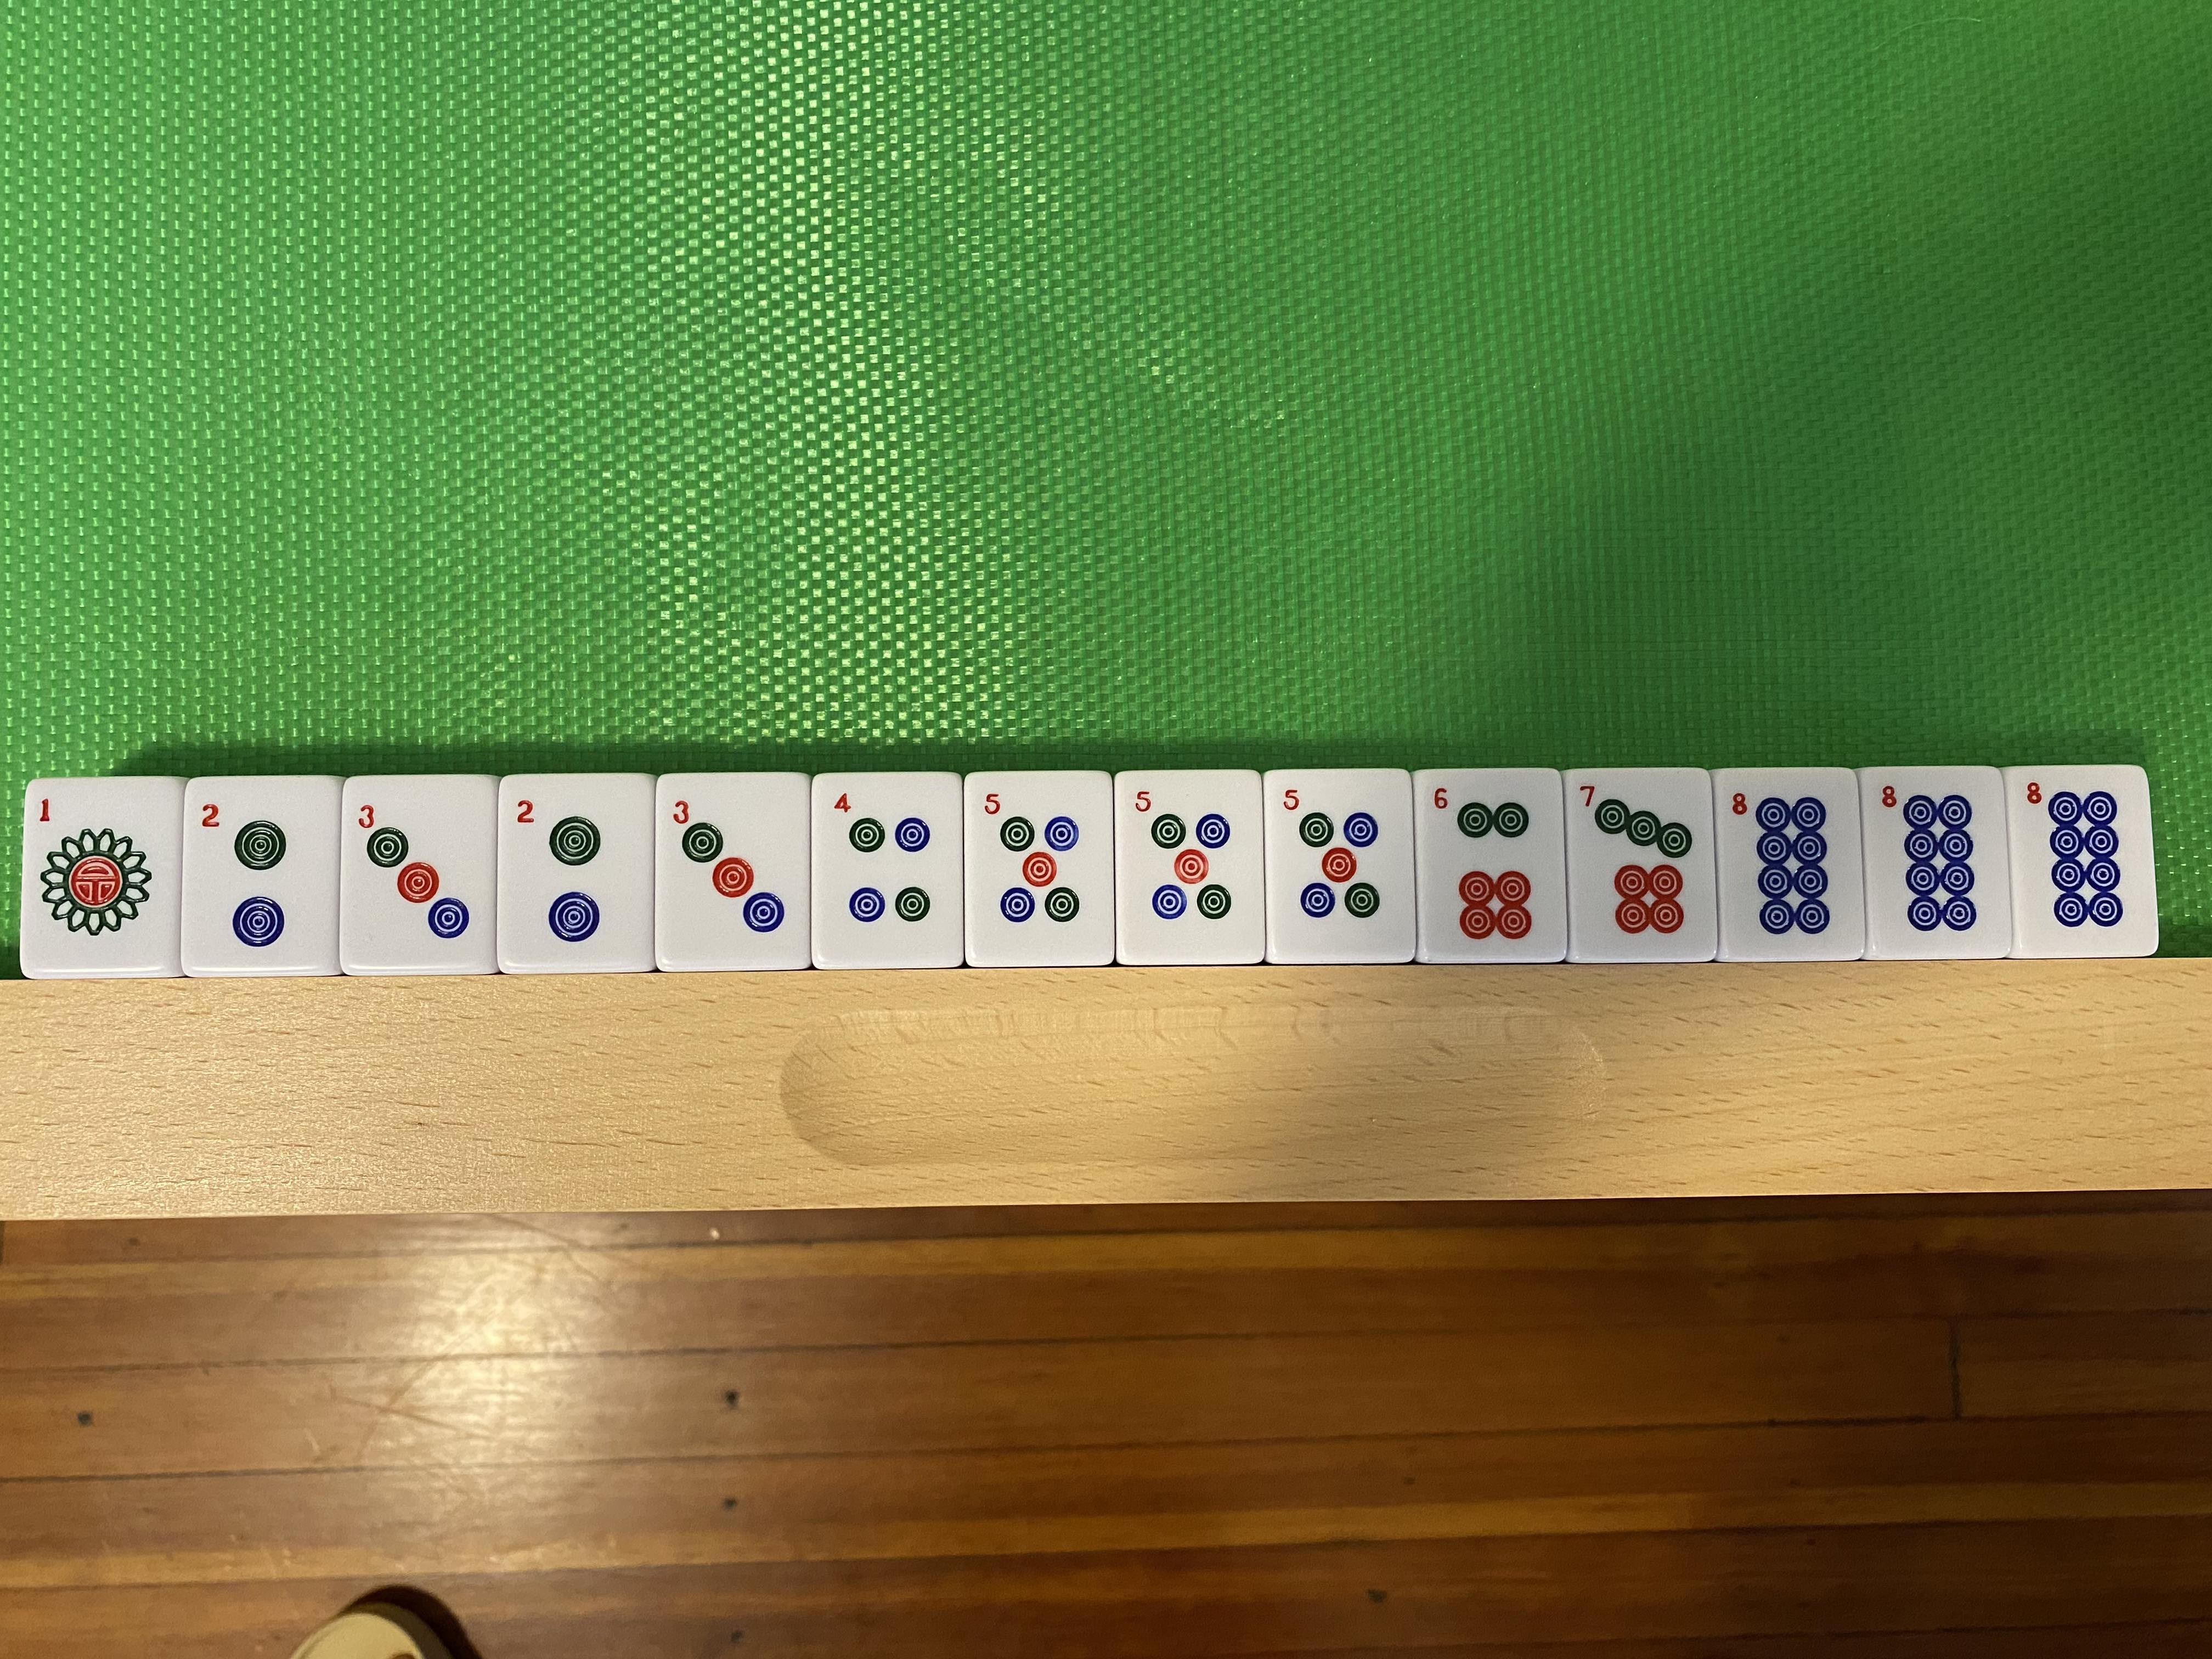circle-eight: (1723, 779, 1844, 951), (1871, 772, 1993, 939), (2024, 772, 2134, 941)
circle-five: (1122, 781, 1259, 955), (1275, 781, 1407, 955), (979, 784, 1108, 960)
circle-four: (820, 781, 958, 962)
circle-one: (31, 789, 171, 962)
circle-seven: (1576, 775, 1703, 951)
circle-six: (1423, 777, 1559, 951)
circle-three: (658, 777, 805, 962), (347, 781, 491, 964)
circle-two: (503, 779, 646, 962), (186, 781, 329, 964)
